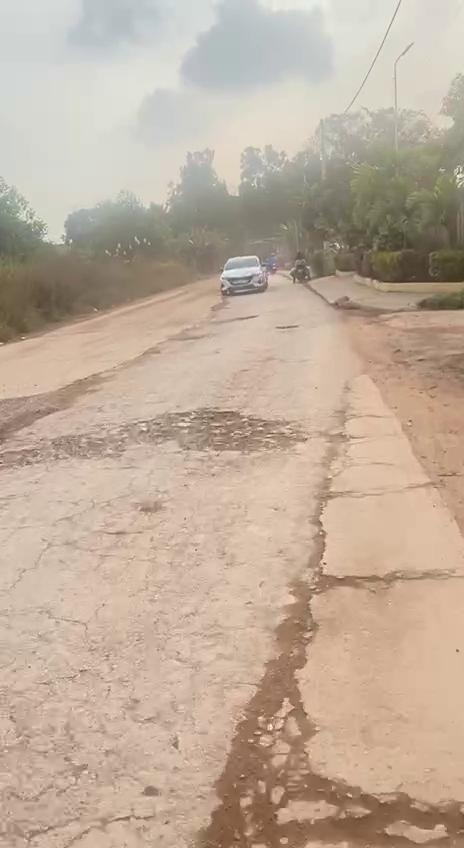pothole: (189, 674, 464, 848), (169, 408, 310, 458), (0, 425, 134, 473)
